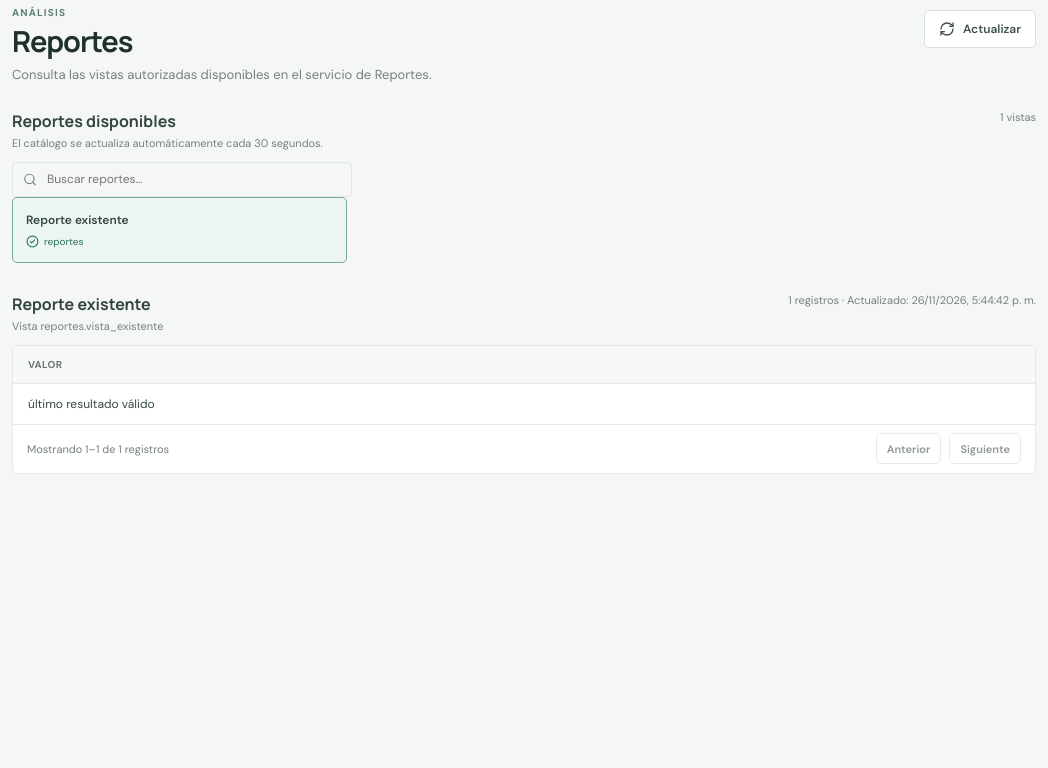
Scenario: ReportsPage › retains the last catalog and rows when refresh requests fail
The width and height of the screenshot is (1048, 768).
expect the text "último resultado válido" is shown: met, box 13,383 -> 1035,424
Click the button "Actualizar": [980, 29] box 924,10 -> 1036,48
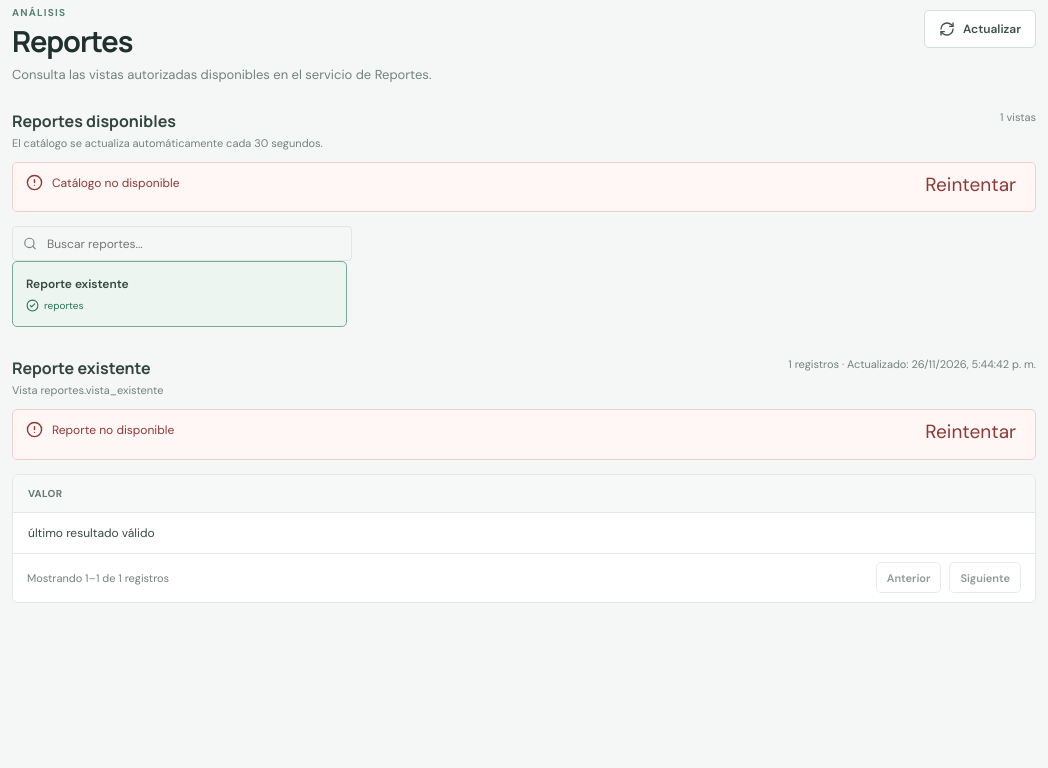
expect the text "último resultado válido" is shown: met, box 13,512 -> 1035,553
expect the text "Catálogo no disponible" is shown: met, box 52,174 -> 180,192
expect the text "Reporte no disponible" is shown: met, box 52,421 -> 174,439
